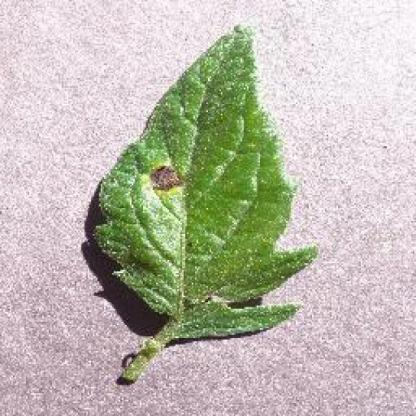Tomato_Blight: (93, 24, 319, 345)
